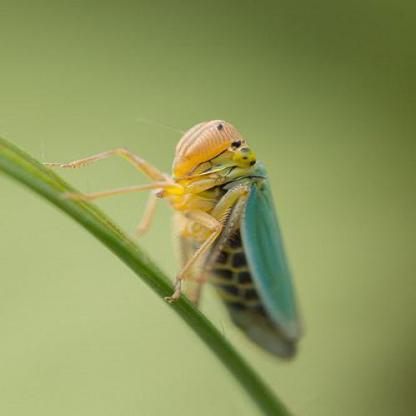Green-Leafhopper: (53, 116, 309, 362)
